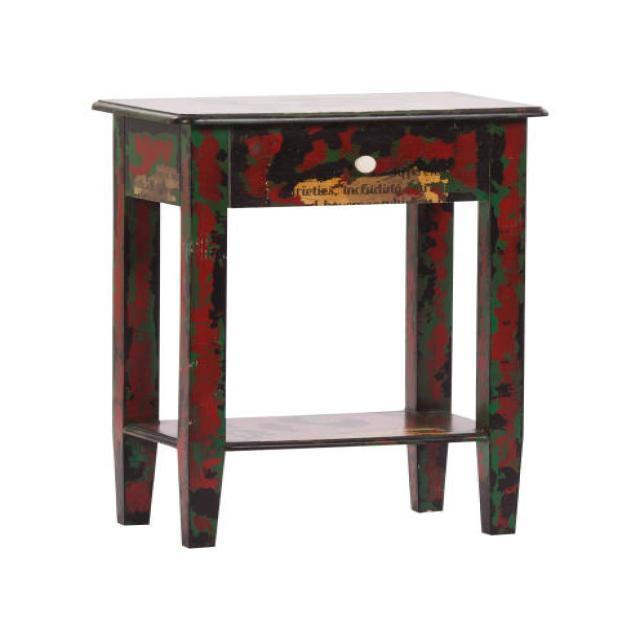table: (90, 90, 547, 548)
